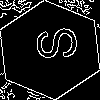S: (25, 25, 79, 63)
